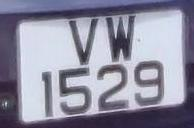1: (34, 63, 59, 124)
2: (91, 60, 136, 115)
5: (51, 63, 96, 119)
9: (130, 57, 169, 110)
V: (59, 12, 105, 68)
W: (100, 10, 142, 66)
